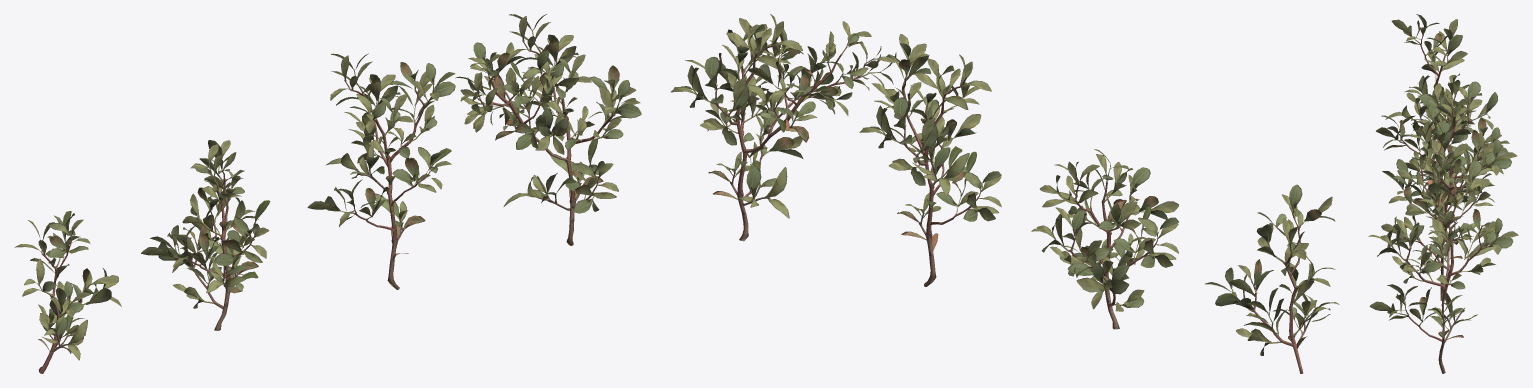
File: shrub_04.gltf
3 views of the same model, side by side, from view 1: azimuth 30°, elevation 25°; view 2: azimuth 150°, elevation 25°; view 3: azimuth 270°, elevation 25° (orthographic). The views are drawn at different scales.
Parts seen in each view (by area): view 1: shrub_04; view 2: shrub_04; view 3: shrub_04.
Boxes of the visible parts, left/top/right/bottom form: shrub_04: left=14, top=14, right=641, bottom=373; shrub_04: left=671, top=14, right=1339, bottom=373; shrub_04: left=1368, top=14, right=1518, bottom=373.
Bounding box in the file's own units: 0.5837 × 0.2192 × 0.1461.
1 material, 1 textured.
